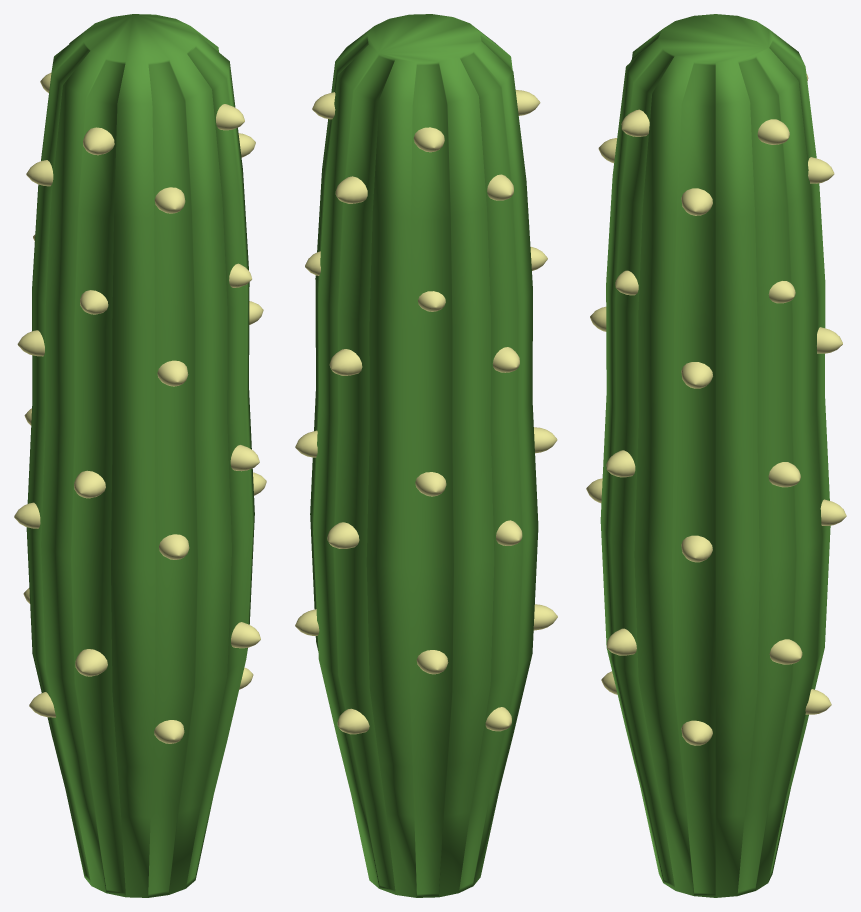
The model's file is Cactus_stage_02.fbx.
The picture shows the model from 3 angles, left to right: view 1: azimuth 30°, elevation 25°; view 2: azimuth 150°, elevation 25°; view 3: azimuth 270°, elevation 25°; orthographic projection.
Visible parts, largest first — view 1: stage_02; view 2: stage_02; view 3: stage_02.
Part boxes in pixels (bbox=[...]): stage_02: bbox=[14, 14, 266, 897]; stage_02: bbox=[295, 14, 557, 897]; stage_02: bbox=[586, 14, 846, 897].
Bounding box in the file's own units: 52.44 × 185 × 52.33.
